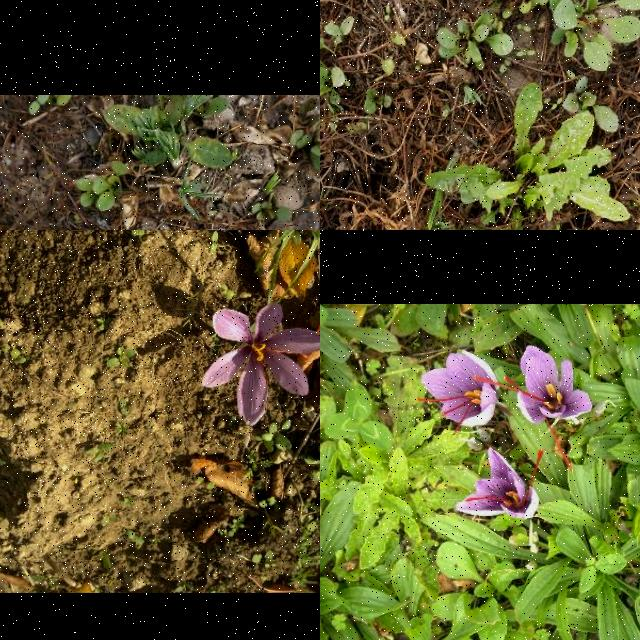flower: (471, 346, 593, 470), (202, 302, 320, 425), (415, 351, 499, 434), (456, 449, 544, 519)
